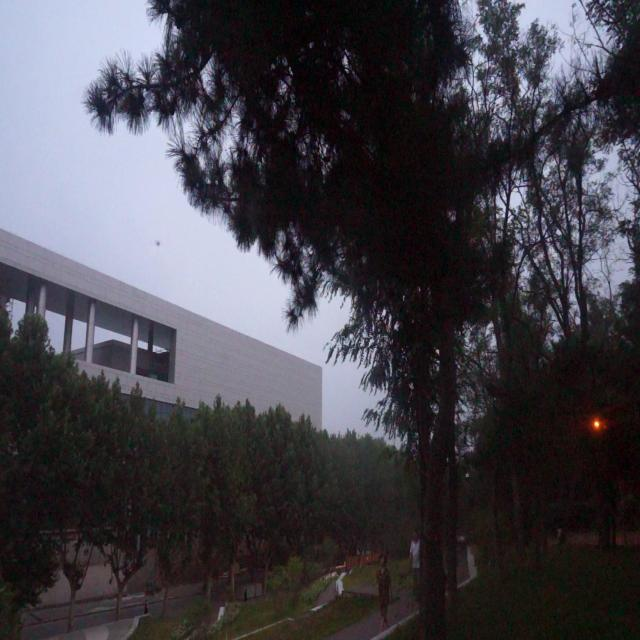drone: (152, 236, 164, 250)
